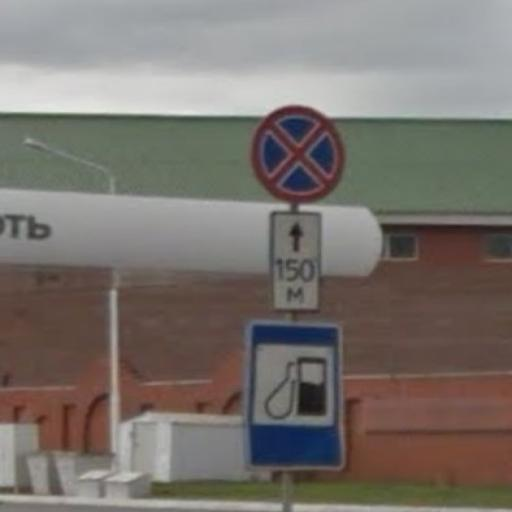traffic_sign: (245, 318, 347, 472), (249, 105, 348, 203)
